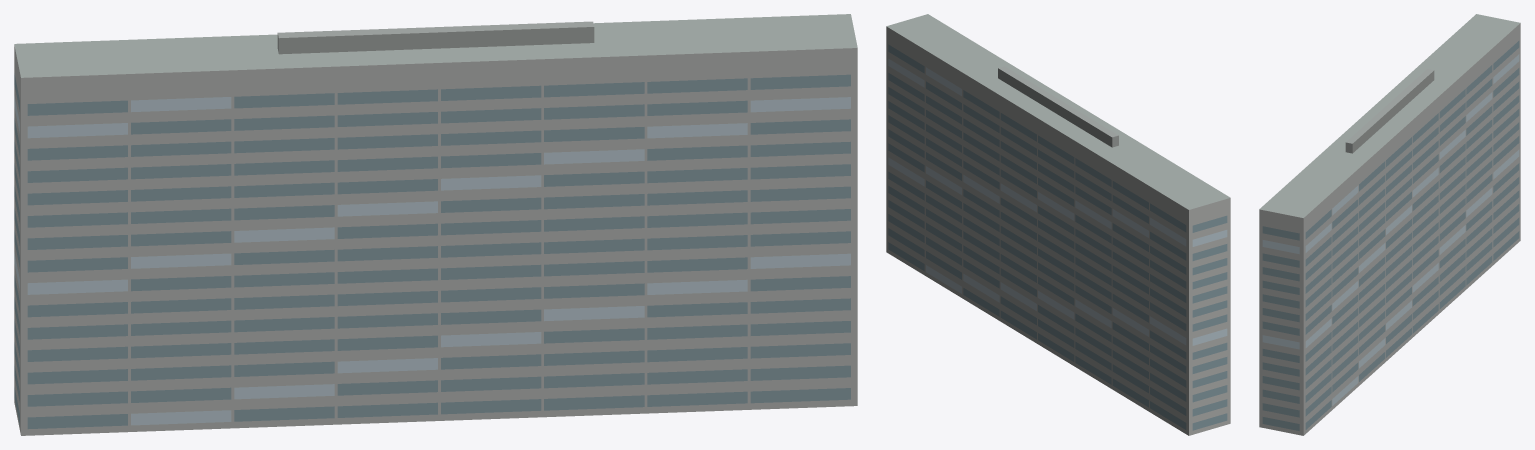
Rendered from fallback-olympic-athletes-village-251.glb.
3 renders of one model, left to right at view 1: azimuth 30°, elevation 25°; view 2: azimuth 150°, elevation 25°; view 3: azimuth 270°, elevation 25°, orthographic. The views are drawn at different scales.
Parts seen in each view (by area): view 1: fallback-olympic-athletes-village-251; view 2: fallback-olympic-athletes-village-251; view 3: fallback-olympic-athletes-village-251.
Part boxes in pixels (bbox=[...]): fallback-olympic-athletes-village-251: bbox=[14, 14, 857, 435]; fallback-olympic-athletes-village-251: bbox=[886, 14, 1230, 435]; fallback-olympic-athletes-village-251: bbox=[1259, 14, 1520, 435].
Bounding box in the file's own units: 98.12 × 51 × 53.12.
